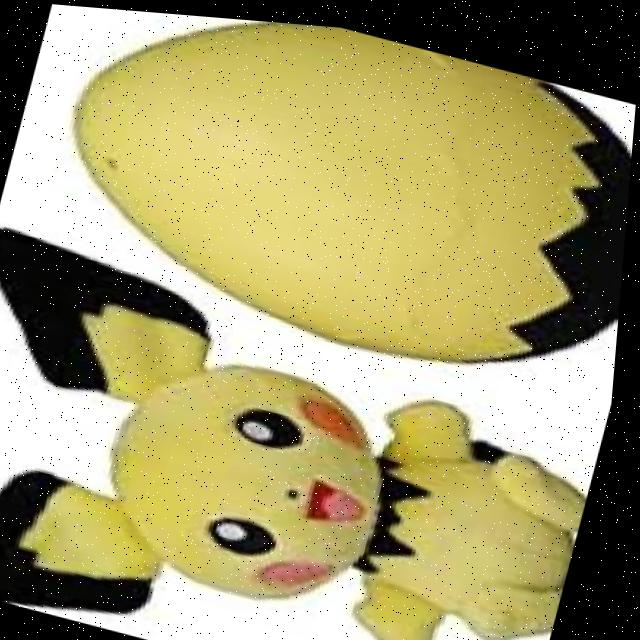pichu: (0, 239, 624, 640)
